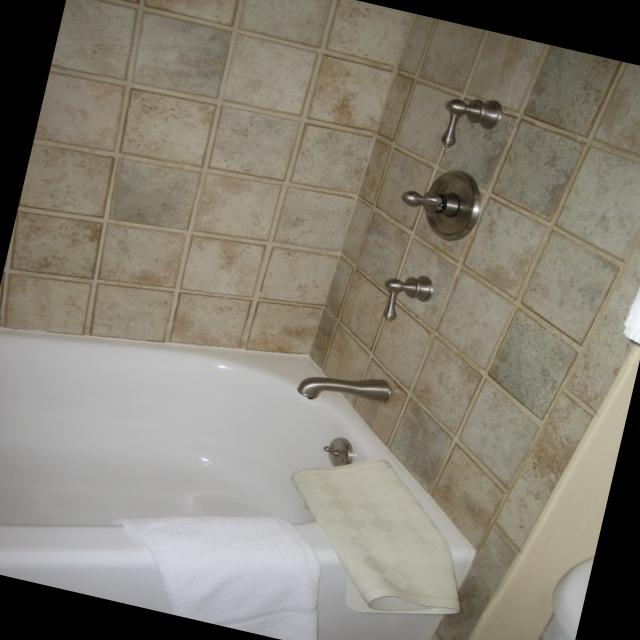bath crop: (0, 329, 476, 640)
faucet handle: (295, 376, 387, 403)
wall clock: (307, 14, 640, 640)
